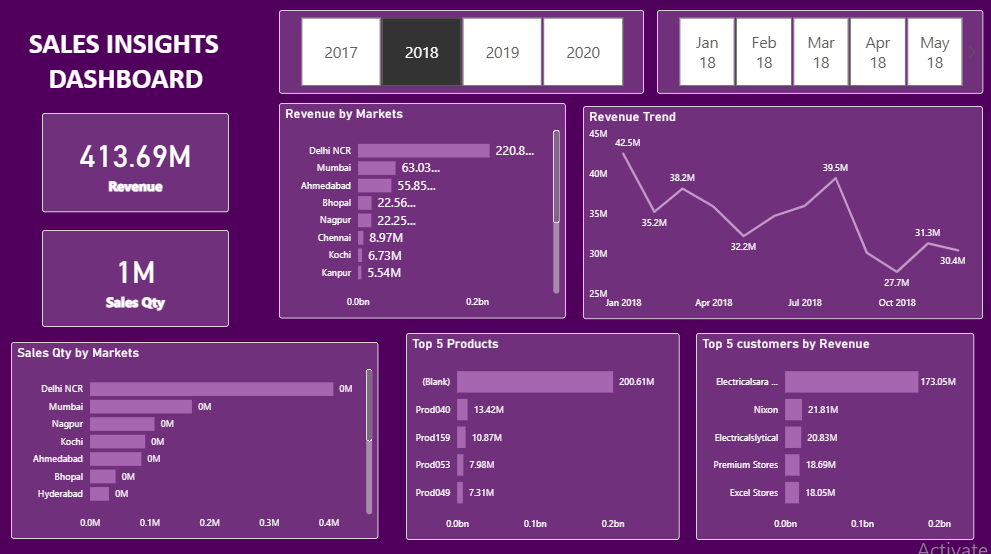

What the dashboard file says about the page in this screenshot:
{"tool":"powerbi","page":{"name":"Page 1","canvas":[1280,720],"ordinal":0},"visuals":[{"type":"card","fields":{"Values":["Base measurement.Revenue"]},"box":[53.9,148.8,240.9,127.6],"z":0},{"type":"card","fields":{"Values":["Base measurement.Sales Qty"]},"box":[53.9,299.1,240.9,124.7],"z":1000},{"type":"barChart","title":"Revenue by Markets","fields":{"Y":["Base measurement.Revenue"],"Category":["markets.markets_name"]},"box":[360,136.1,369.9,277.8],"z":2000},{"type":"barChart","title":"Sales Qty by Markets","fields":{"Y":["Base measurement.Sales Qty"],"Category":["markets.markets_name"]},"box":[14.3,444.3,474.3,254.3],"z":3000},{"type":"slicer","fields":{"Values":["date.year"]},"box":[360,15.6,470.6,107.7],"z":4000},{"type":"slicer","fields":{"Values":["date.cy_date"]},"box":[847.6,15.6,420.9,107.7],"z":5000},{"type":"barChart","title":"Top 5 customers by Revenue ","fields":{"Y":["Base measurement.Revenue"],"Category":["customers.custmer_name"]},"box":[898.7,431.7,359.5,267.1],"z":6000},{"type":"barChart","title":"Top 5 Products","fields":{"Category":["products.product_code"],"Y":["Base measurement.Revenue"]},"box":[524.1,431.7,352.8,267.1],"z":7000},{"type":"lineChart","title":"Revenue Trend","fields":{"Category":["date.cy_date.Variation.Date Hierarchy.Year","date.cy_date.Variation.Date Hierarchy.Quarter","date.cy_date.Variation.Date Hierarchy.Month","date.cy_date.Variation.Date Hierarchy.Day"],"Y":["Base measurement.Revenue"]},"box":[752.6,138.9,515.9,275],"z":8000},{"type":"textbox","box":[32.6,29.8,290.6,109.1],"z":8001}]}

Visuals, with their boxes in screenshot pixels (x1, y1, x2, y2), scaled from the page's 1280x720 canvas onto the 991x554 screenshot:
card - Base measurement.Revenue: [42, 114, 228, 213]
card - Base measurement.Sales Qty: [42, 230, 228, 326]
"Revenue by Markets" barChart: [279, 105, 565, 318]
"Sales Qty by Markets" barChart: [11, 342, 378, 538]
slicer - date.year: [279, 12, 643, 95]
slicer - date.cy_date: [656, 12, 982, 95]
"Top 5 customers by Revenue " barChart: [696, 332, 974, 538]
"Top 5 Products" barChart: [406, 332, 679, 538]
"Revenue Trend" lineChart: [583, 107, 982, 318]
textbox: [25, 23, 250, 107]
